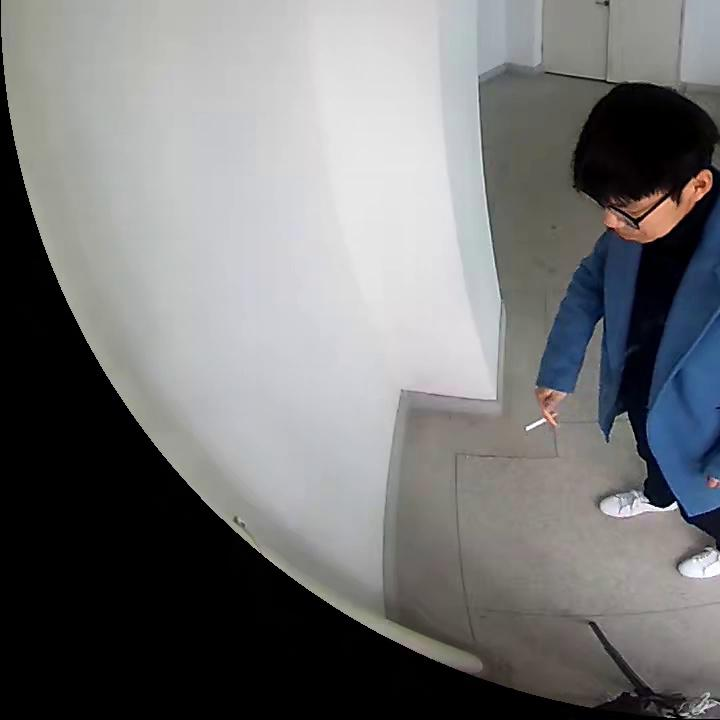handsmoke: (526, 391, 566, 433)
mouthwithoutsmoke: (572, 82, 713, 244)
